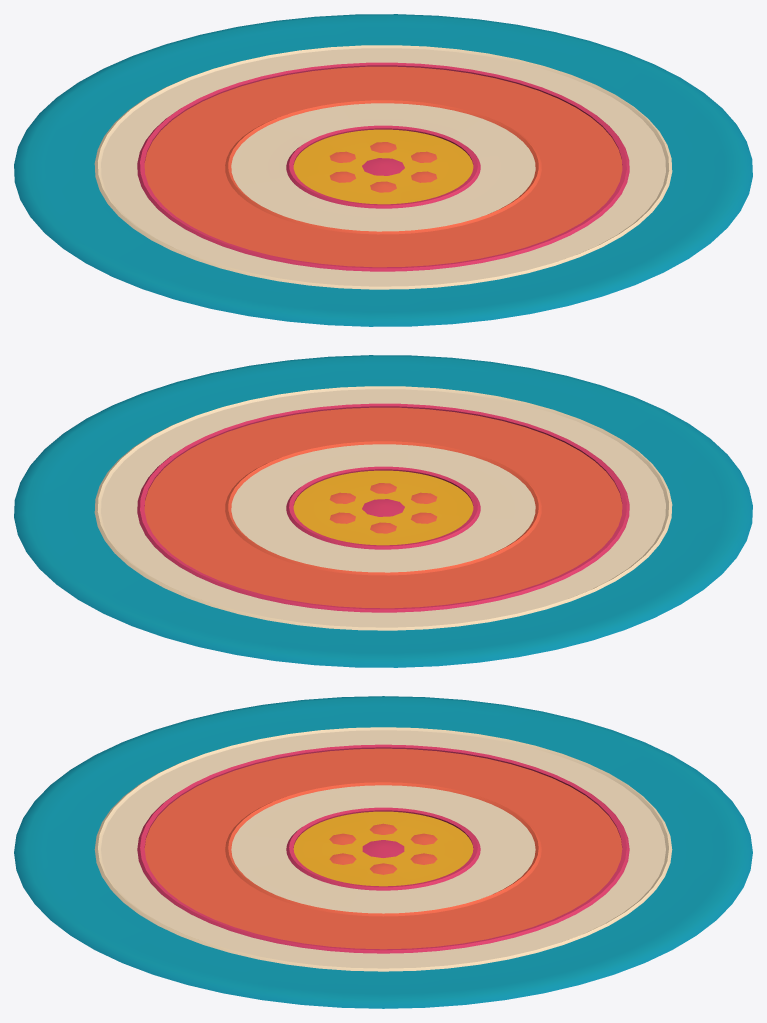
Rendered from rug_round.glb.
The picture shows the model from 3 angles, top to bottom: view 1: azimuth 30°, elevation 25°; view 2: azimuth 150°, elevation 25°; view 3: azimuth 270°, elevation 25°; orthographic projection.
Visible parts, largest first — view 1: rug_round; view 2: rug_round; view 3: rug_round.
Part boxes in pixels (x1,y1,x2,y2): rug_round: (14,14,752,326); rug_round: (14,355,752,667); rug_round: (14,696,752,1008).
Size of the model in its own units: 2.38 by 0.026 by 2.38.
